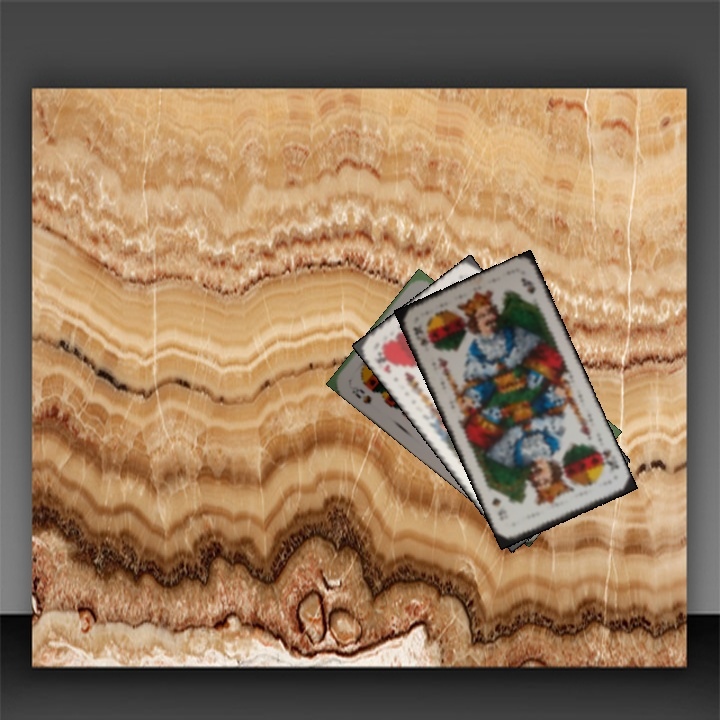HK: (369, 348, 394, 376)
S8: (344, 381, 374, 406)
SK: (592, 444, 622, 473), (410, 321, 430, 348)
